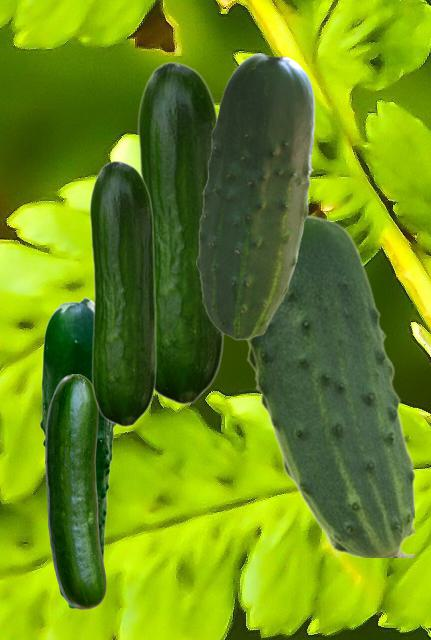cucumber: (244, 213, 413, 556), (196, 53, 314, 339), (137, 61, 224, 404), (39, 297, 115, 608), (89, 160, 156, 426), (45, 374, 105, 608)
